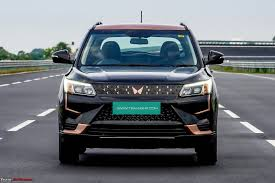XUV 400: (50, 9, 224, 168)
